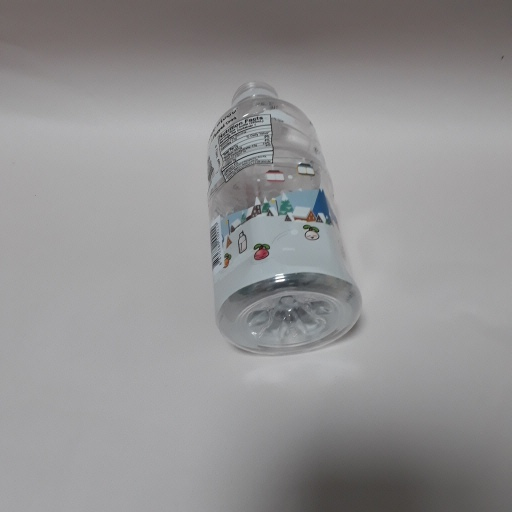Plastic_0: (204, 77, 366, 357)
